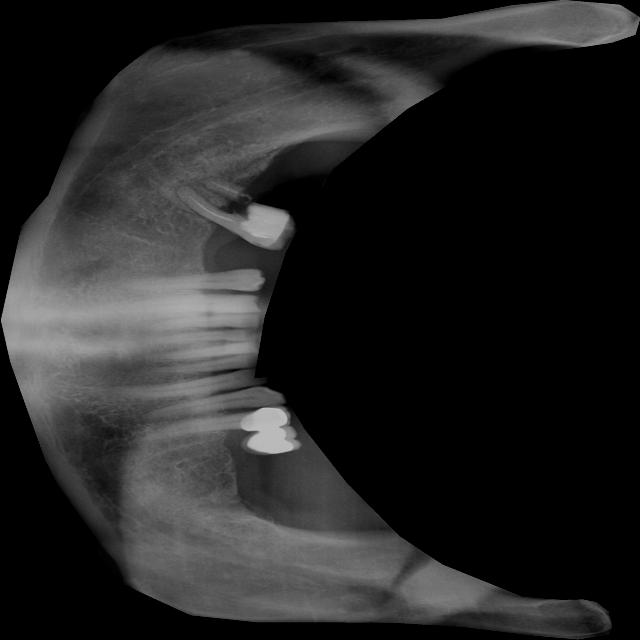mandibula: (0, 0, 640, 640)
